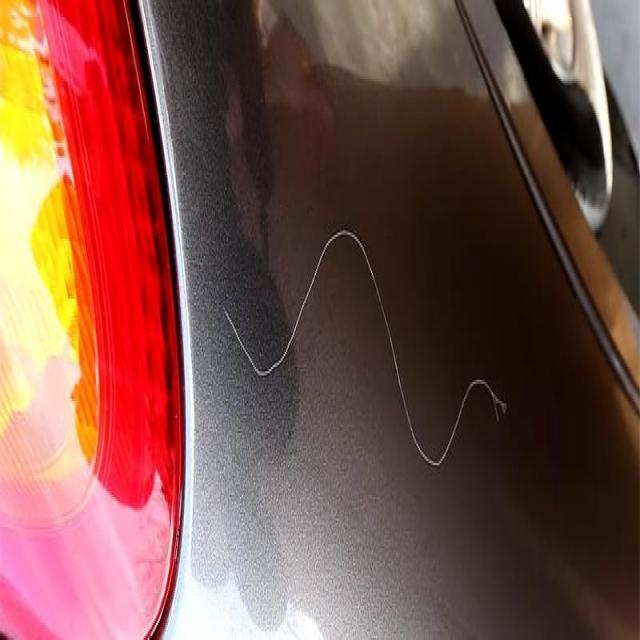scratch: (214, 184, 513, 486)
